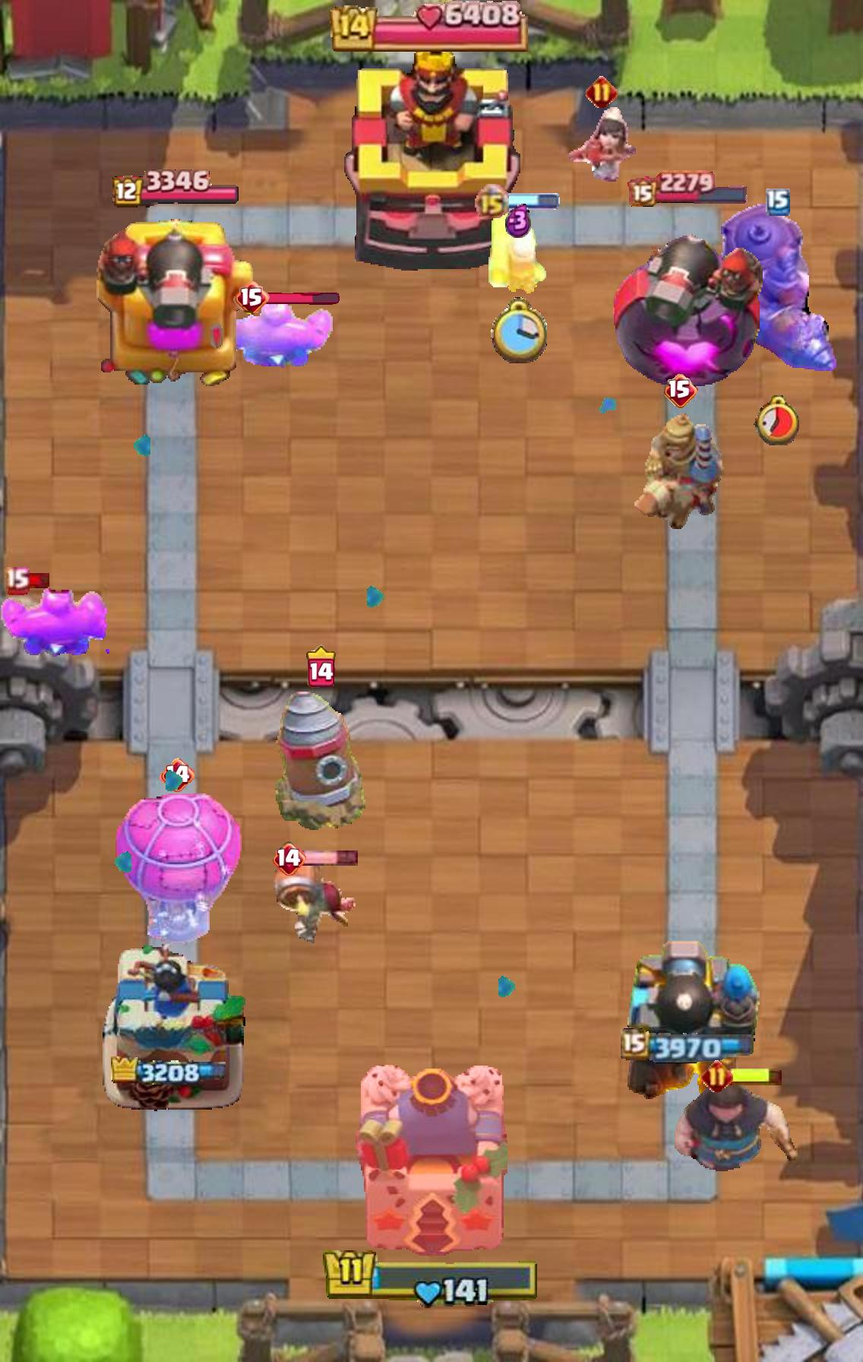bar: (729, 1066, 784, 1086), (266, 291, 339, 304), (302, 850, 359, 866), (26, 572, 52, 589)
bar-level: (233, 281, 270, 315), (306, 644, 335, 687), (160, 758, 196, 792), (664, 374, 698, 409), (273, 842, 306, 876), (586, 76, 618, 108), (701, 1060, 733, 1092), (4, 566, 30, 595)
